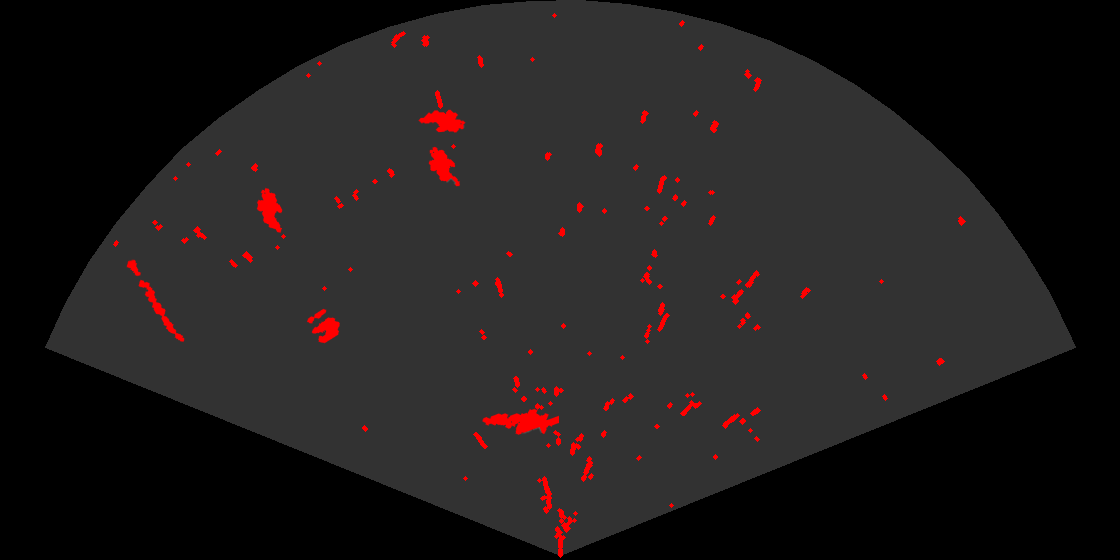AUV: (427, 145, 462, 188), (255, 186, 284, 234), (417, 108, 467, 134)
ball: (305, 307, 341, 345)
chain: (125, 258, 186, 343)
frogman: (481, 407, 559, 436)
